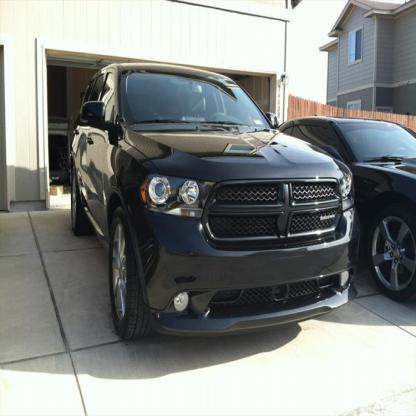Vehicle: (74, 64, 356, 355)
